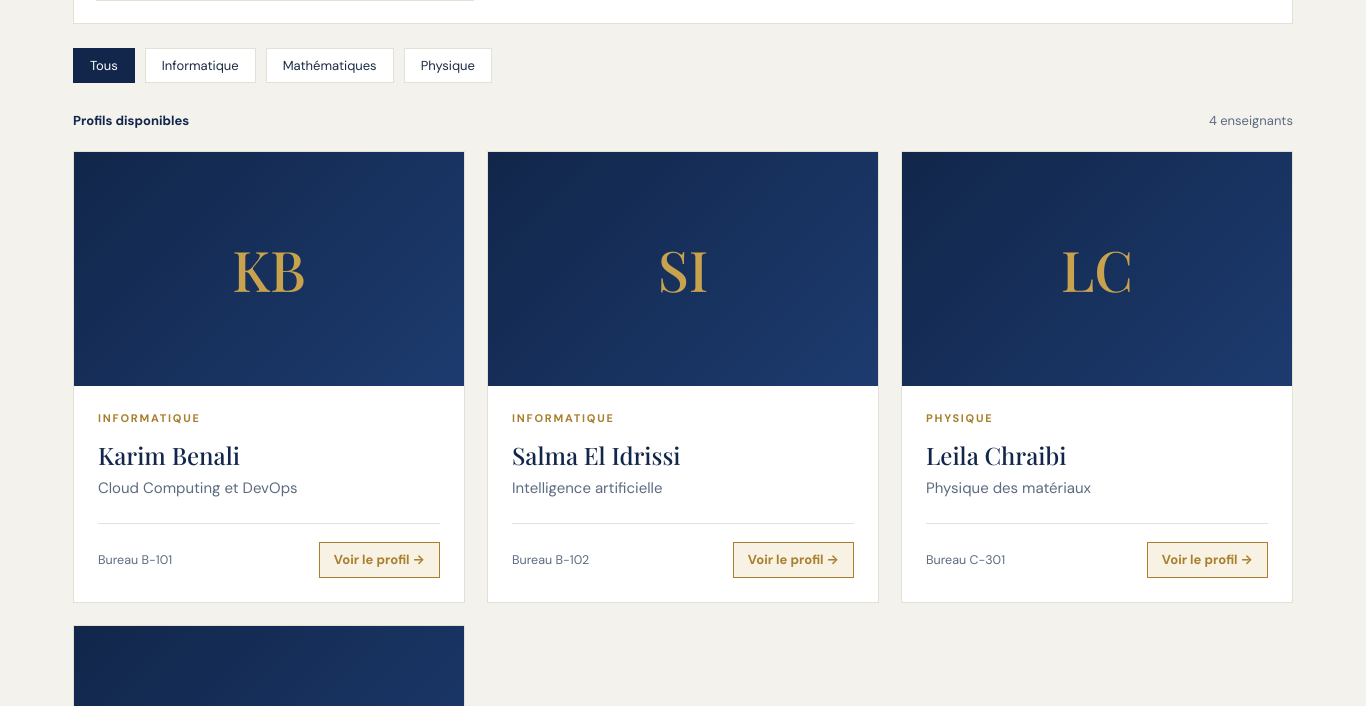
Scenario: Annuaire des enseignants › la fiche détaillée s'ouvre depuis la liste et n'affiche pas l'id
The image size is (1366, 706).
(page scrolled)
Step 1. Click the link "Salma El Idrissi" → (683, 377), box [487, 150, 879, 603]
(page scrolled)
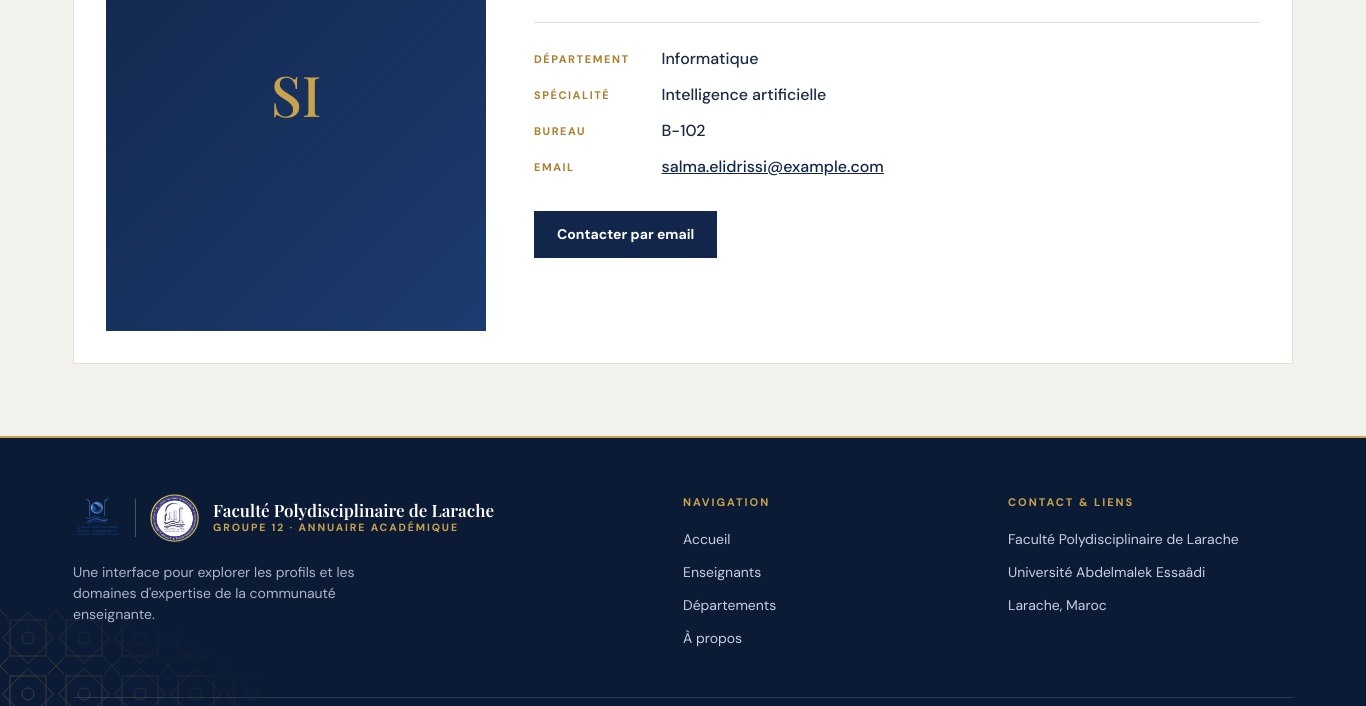
Check: the text "B-102" is shown, box [662, 120, 706, 141]
Check: the link "salma.elidrissi@example.com" is shown, box [662, 156, 884, 177]
